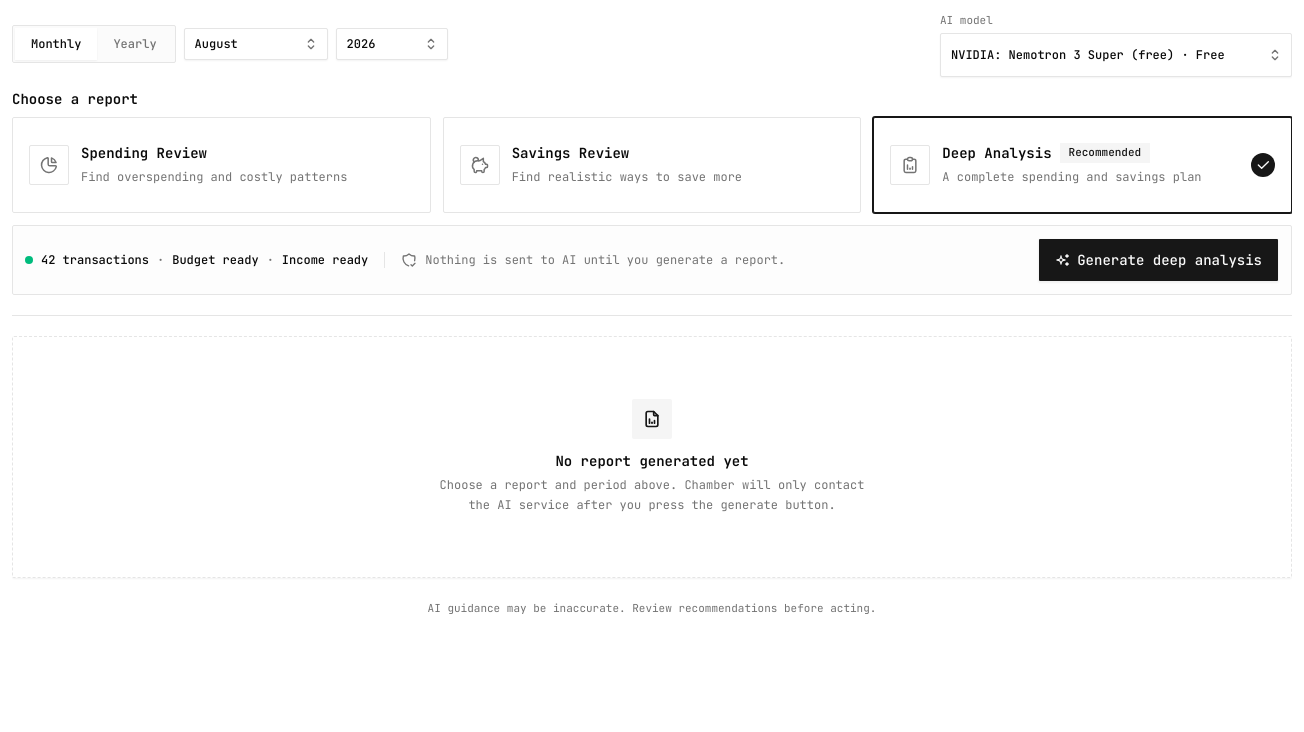
AiAnalysisWorkspace › shows a safe model error returned by the server action
Click the button "Generate deep analysis" at (1159, 260), box [1038, 238, 1279, 282]
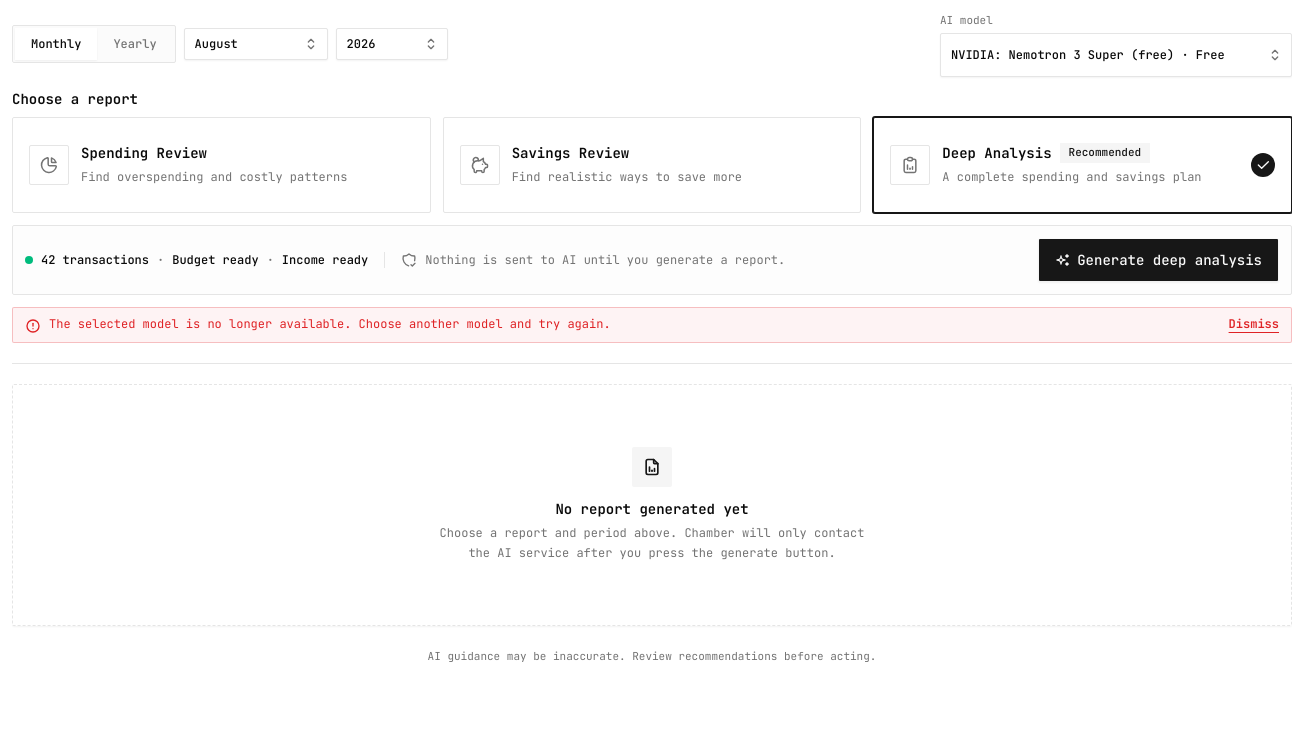
Check: the message shows "selected model is no longer available", box [49, 316, 611, 332]
